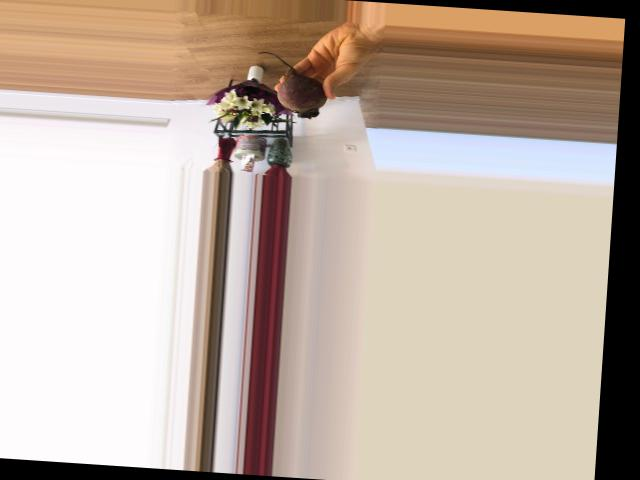beet: (252, 51, 329, 119)
